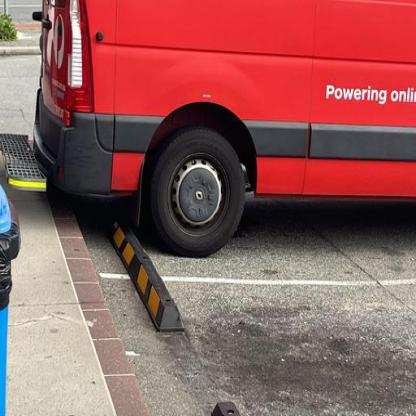Tire: (149, 130, 247, 258)
